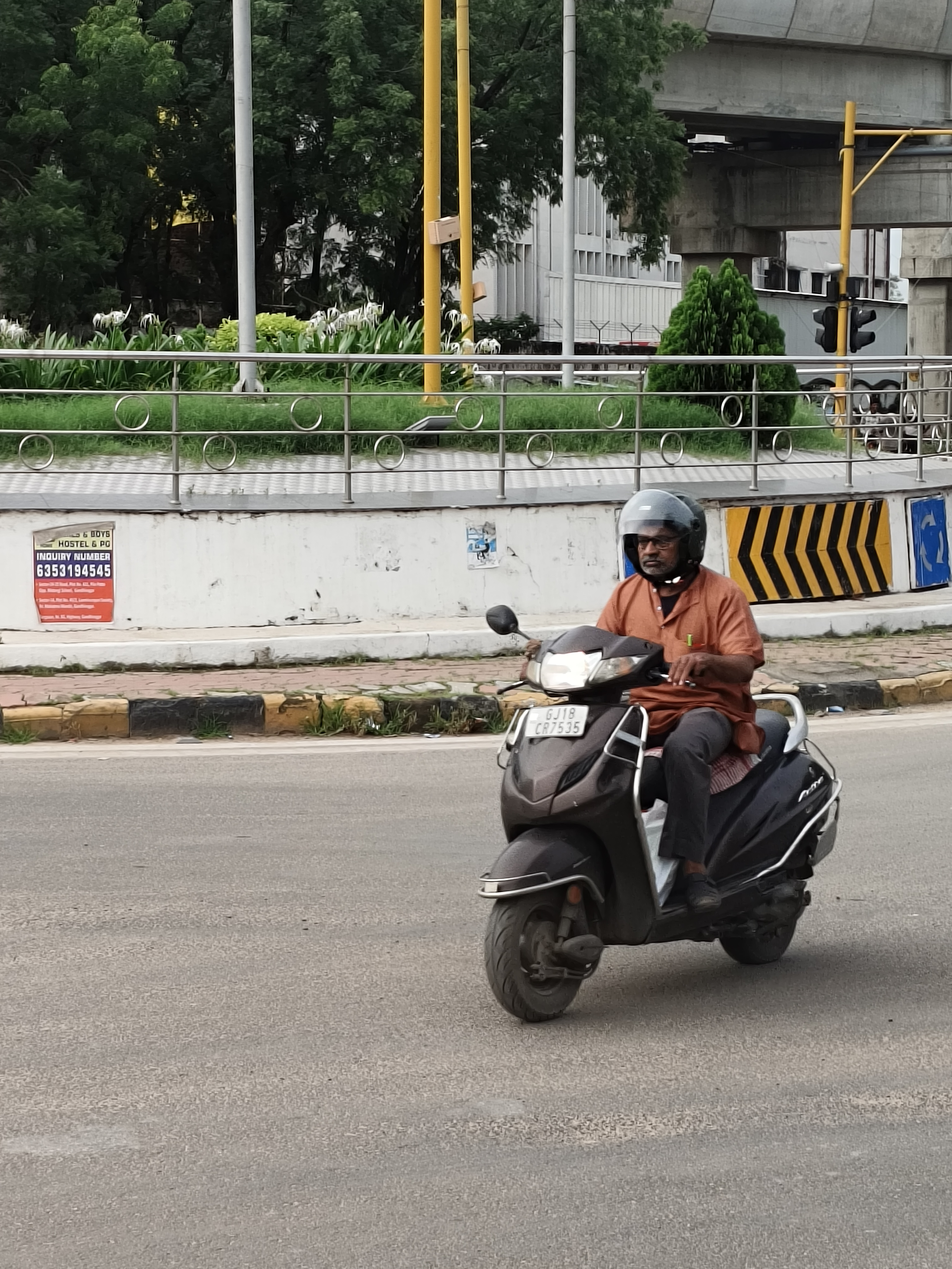BikeWithRider: (462, 476, 856, 1033)
Helmet: (606, 479, 721, 595)
